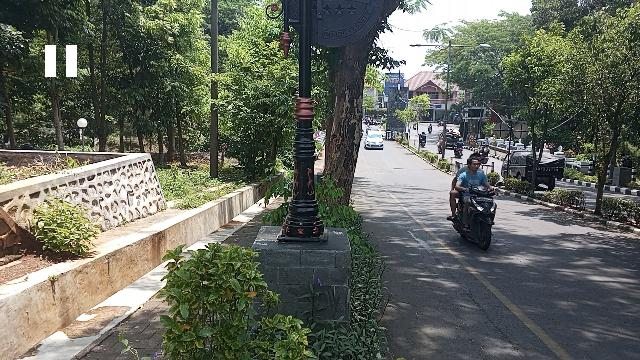motor: (454, 188, 502, 251)
non-helm: (469, 160, 480, 172)
